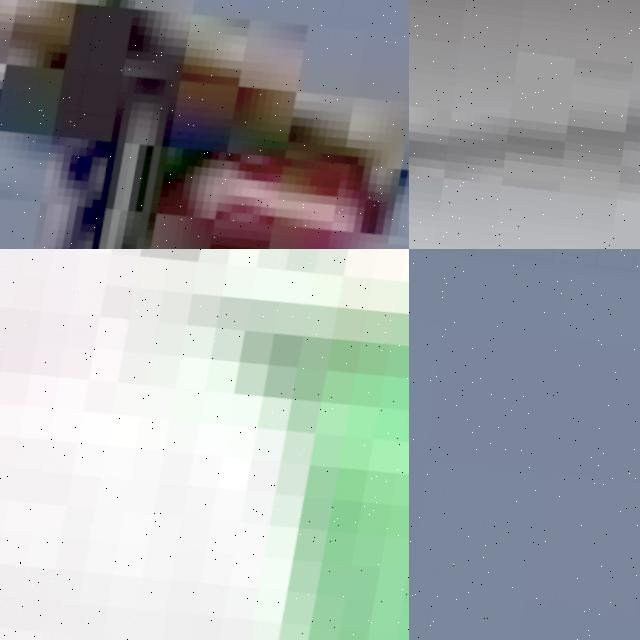drone: (0, 249, 409, 640), (0, 0, 409, 249)
